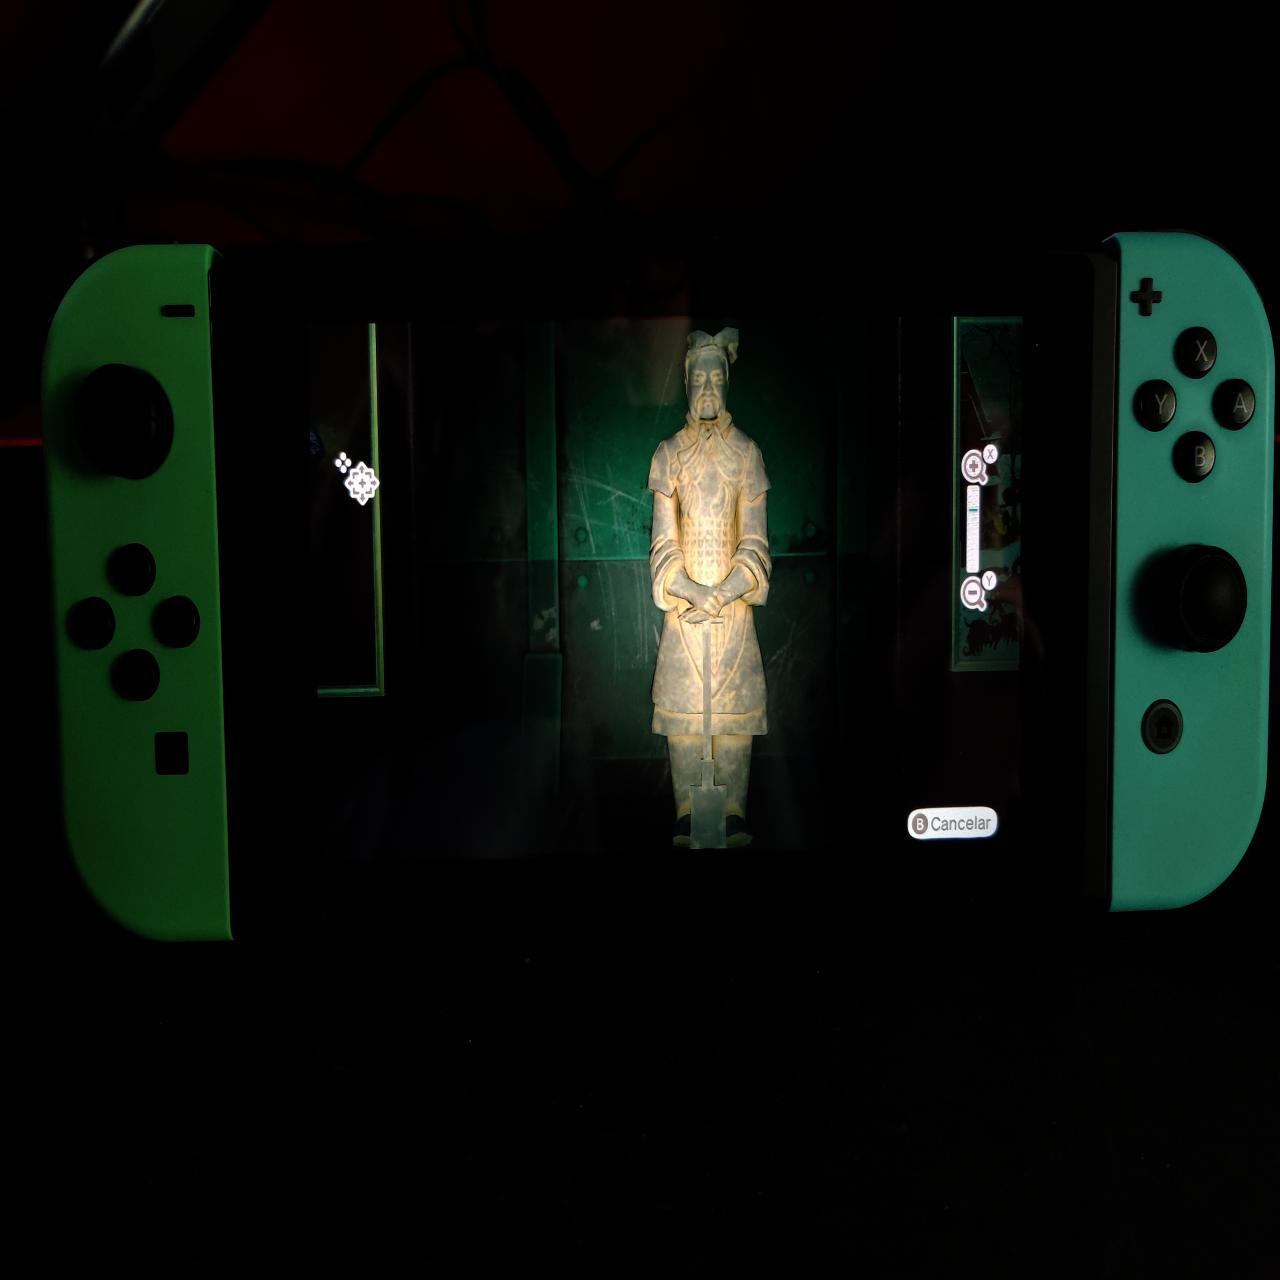HeibayoFake: (642, 316, 782, 853)
